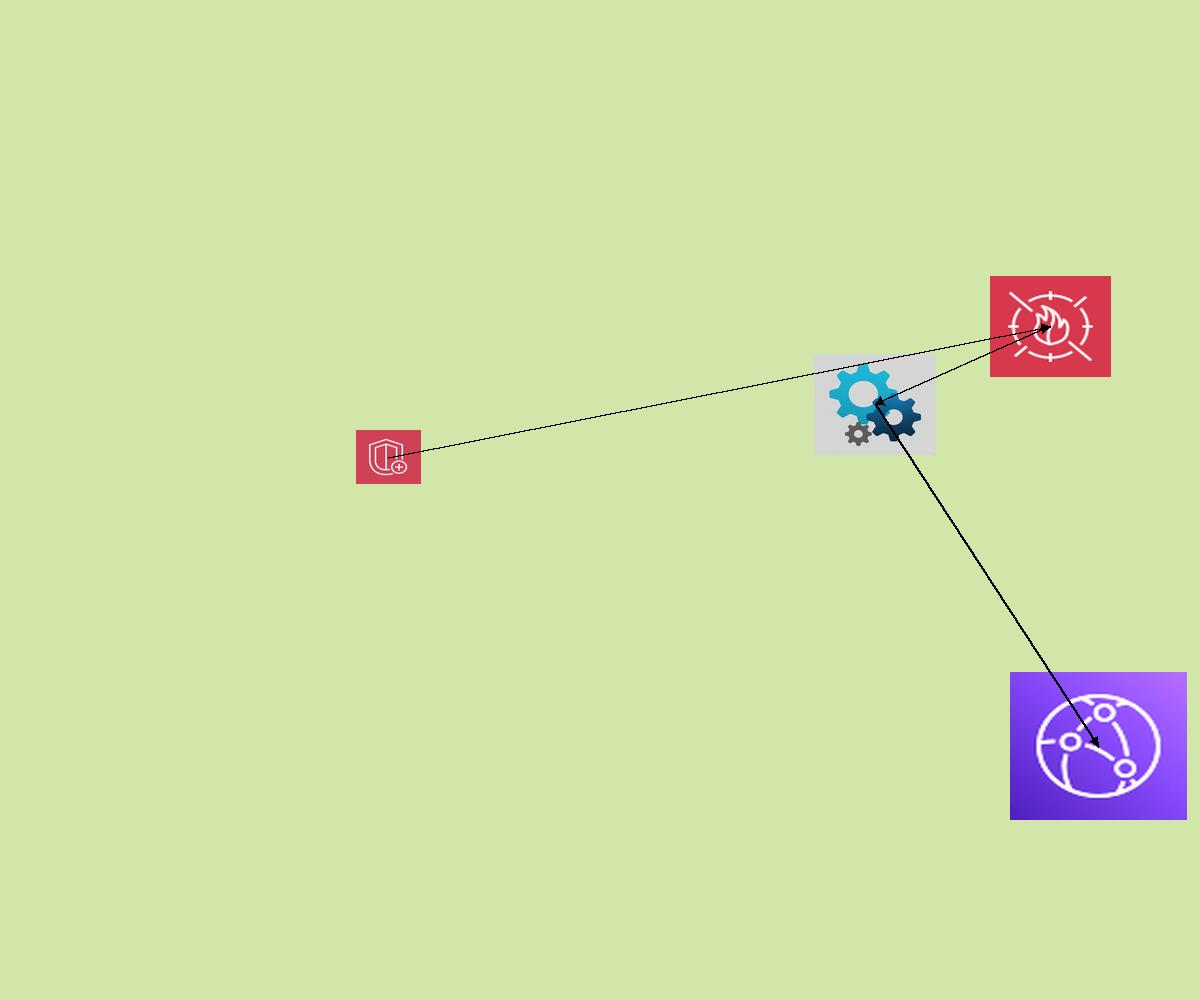AWS-CloudFront: (1010, 672, 1187, 820)
AWS-Shield: (356, 430, 421, 484)
AWS-WAF: (990, 276, 1111, 377)
Azure_api: (814, 354, 936, 455)
